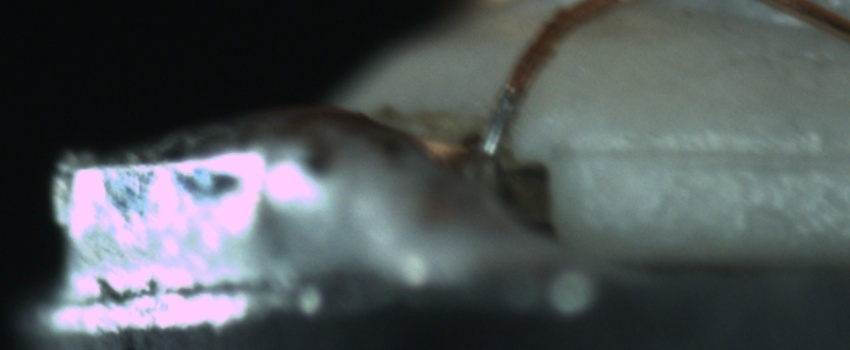DL: (573, 126, 849, 182)
TS: (479, 92, 524, 161)
